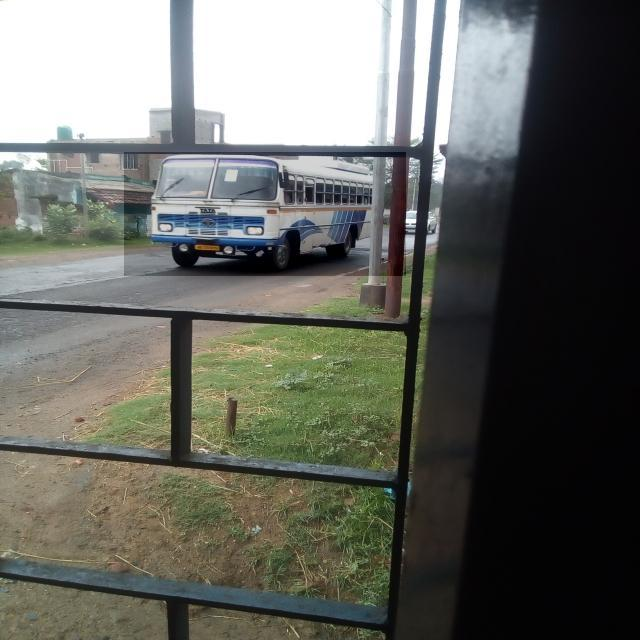Bus: (124, 152, 406, 276)
